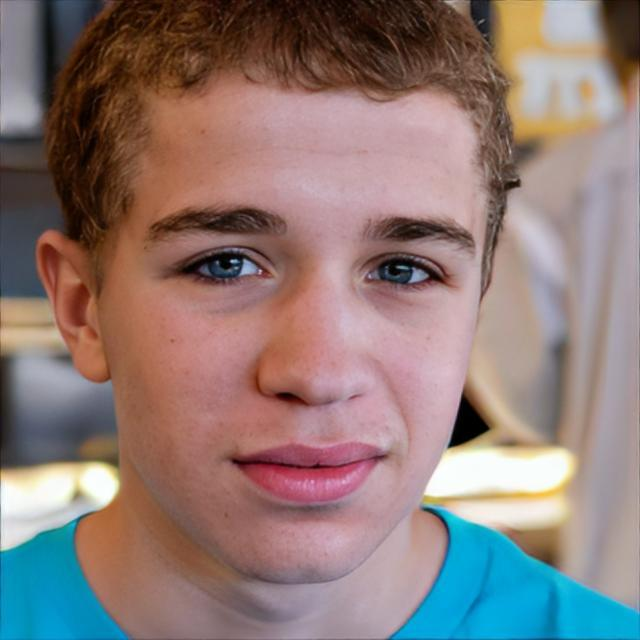content: (106, 50, 480, 586)
